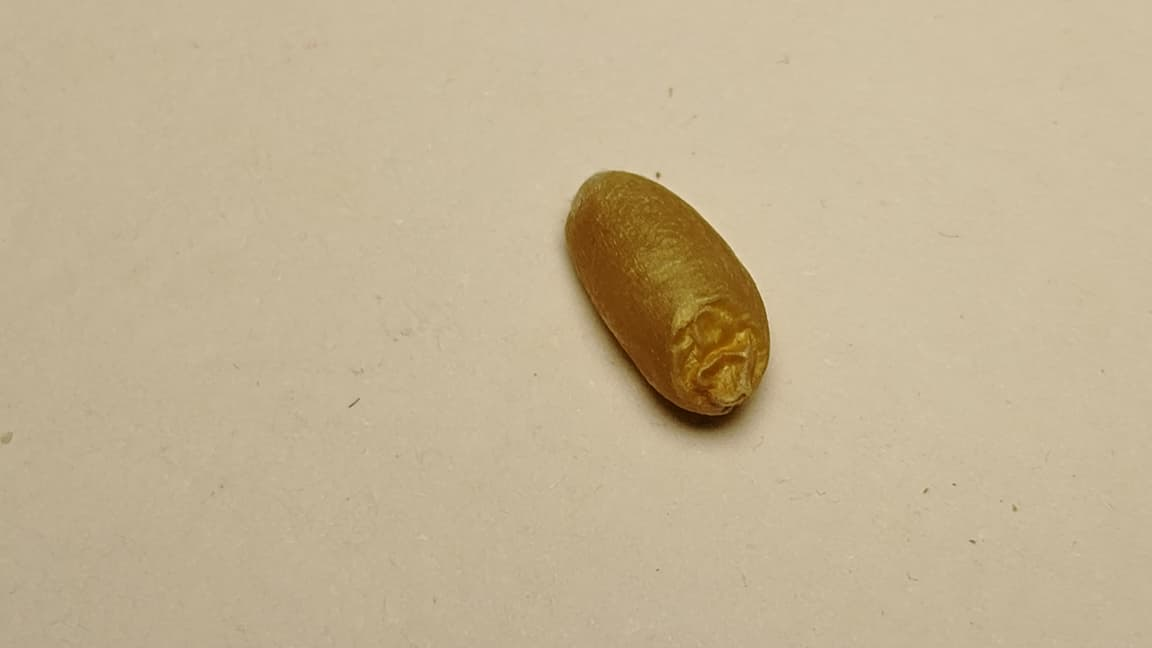healthy: (567, 171, 769, 414)
